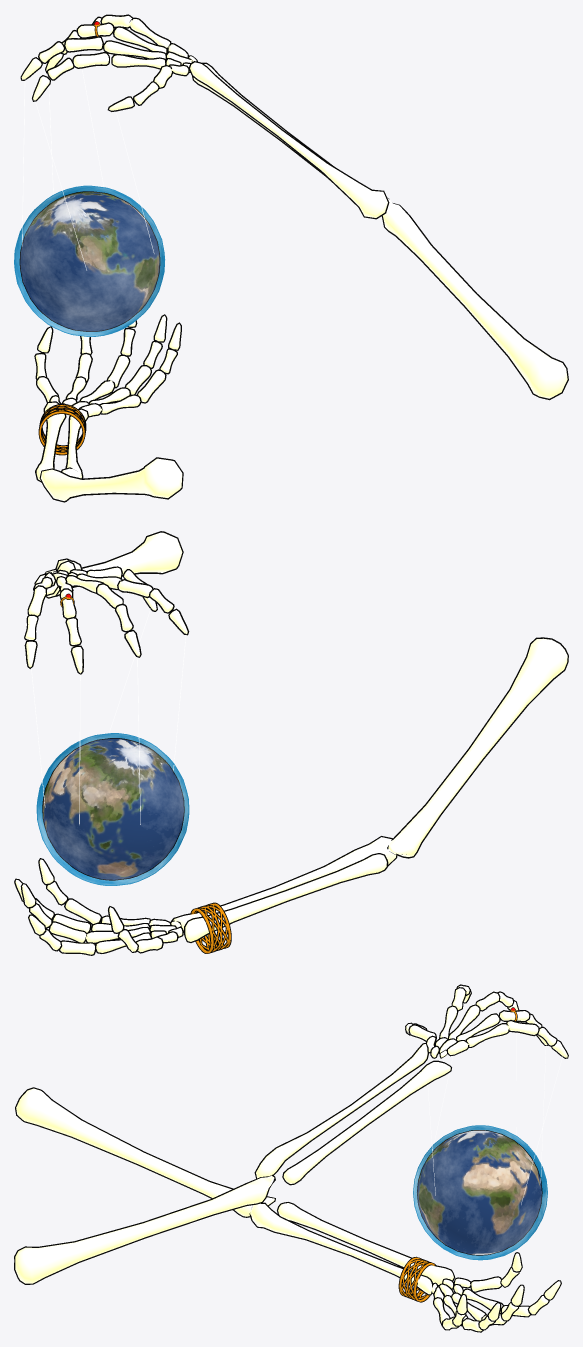
Rendered from death_earth.glb.
The picture shows the model from 3 angles, top to bottom: view 1: azimuth 30°, elevation 25°; view 2: azimuth 150°, elevation 25°; view 3: azimuth 270°, elevation 25°; orthographic projection. The views are drawn at different scales.
Parts seen in each view (by area): view 1: Cubo.027, Tierra, Cubo.046, Atmosfera, object 7, Hilos; view 2: Cubo.046, Tierra, Cubo.027, Atmosfera, object 7, Hilos; view 3: Cubo.027, Cubo.046, Tierra, Atmosfera, object 7, Hilos.
Part boxes in pixels (left/top/right/bottom): Cubo.027: left=20, top=14, right=568, bottom=400; Tierra: left=19, top=191, right=160, bottom=331; Cubo.046: left=34, top=314, right=183, bottom=502; Atmosfera: left=14, top=185, right=165, bottom=336; object 7: left=38, top=404, right=86, bottom=455; Hilos: left=22, top=52, right=154, bottom=270; Cubo.046: left=14, top=637, right=568, bottom=955; Tierra: left=42, top=738, right=184, bottom=880; Cubo.027: left=24, top=531, right=189, bottom=674; Atmosfera: left=36, top=733, right=189, bottom=885; object 7: left=190, top=902, right=231, bottom=953; Hilos: left=31, top=608, right=186, bottom=824; Cubo.027: left=14, top=984, right=568, bottom=1284; Cubo.046: left=15, top=1087, right=561, bottom=1332; Tierra: left=417, top=1130, right=542, bottom=1255; Atmosfera: left=413, top=1125, right=547, bottom=1260; object 7: left=398, top=1256, right=435, bottom=1302; Hilos: left=424, top=1002, right=562, bottom=1204.
Bounding box in the file's own units: 30.34 × 25.57 × 38.91.
7 materials, 3 textured.
